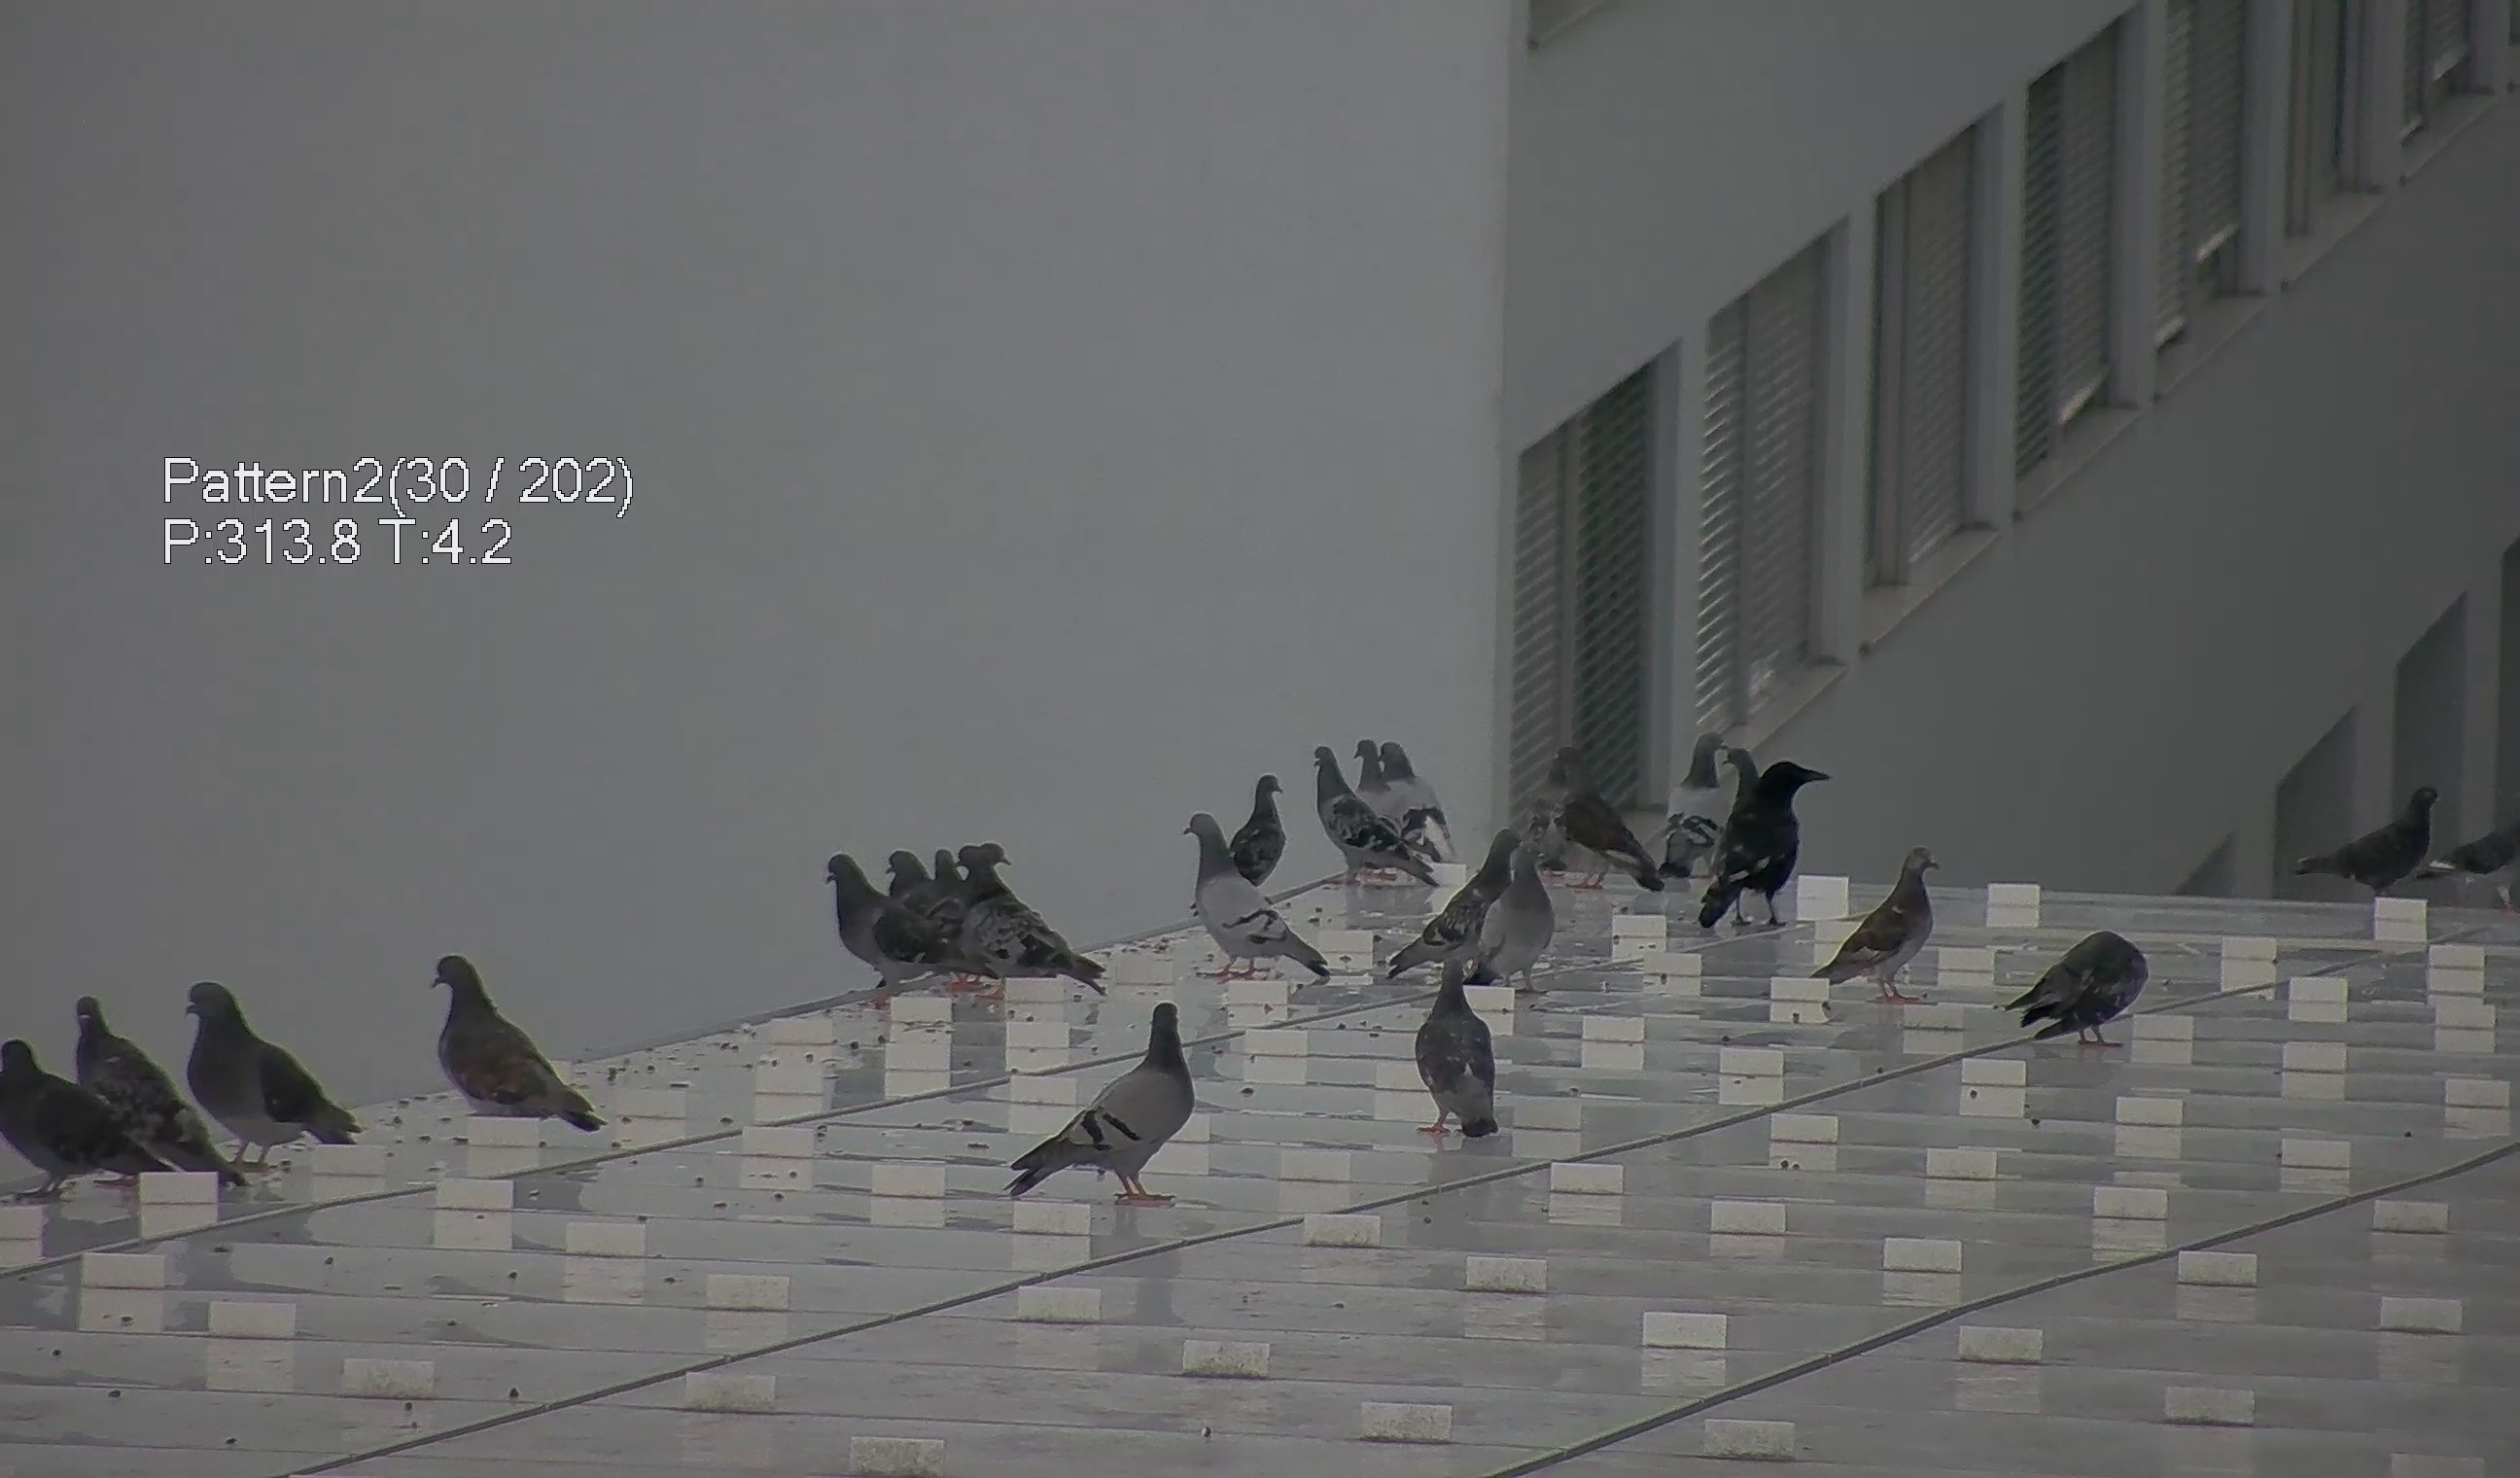Pigeon: (1009, 1010, 1217, 1216), (165, 973, 362, 1174), (397, 945, 594, 1142), (1690, 741, 1859, 938), (63, 984, 216, 1198), (1182, 762, 1326, 977), (2, 1029, 158, 1196), (1298, 727, 1437, 910), (960, 832, 1099, 1005), (1402, 950, 1519, 1144), (2012, 920, 2168, 1065), (812, 846, 969, 987), (1820, 845, 1957, 1005), (2305, 781, 2467, 904), (1539, 737, 1660, 897), (1472, 834, 1577, 987), (1423, 823, 1525, 962), (1342, 723, 1454, 843), (1208, 760, 1305, 897), (1672, 727, 1727, 876), (883, 846, 976, 913)
